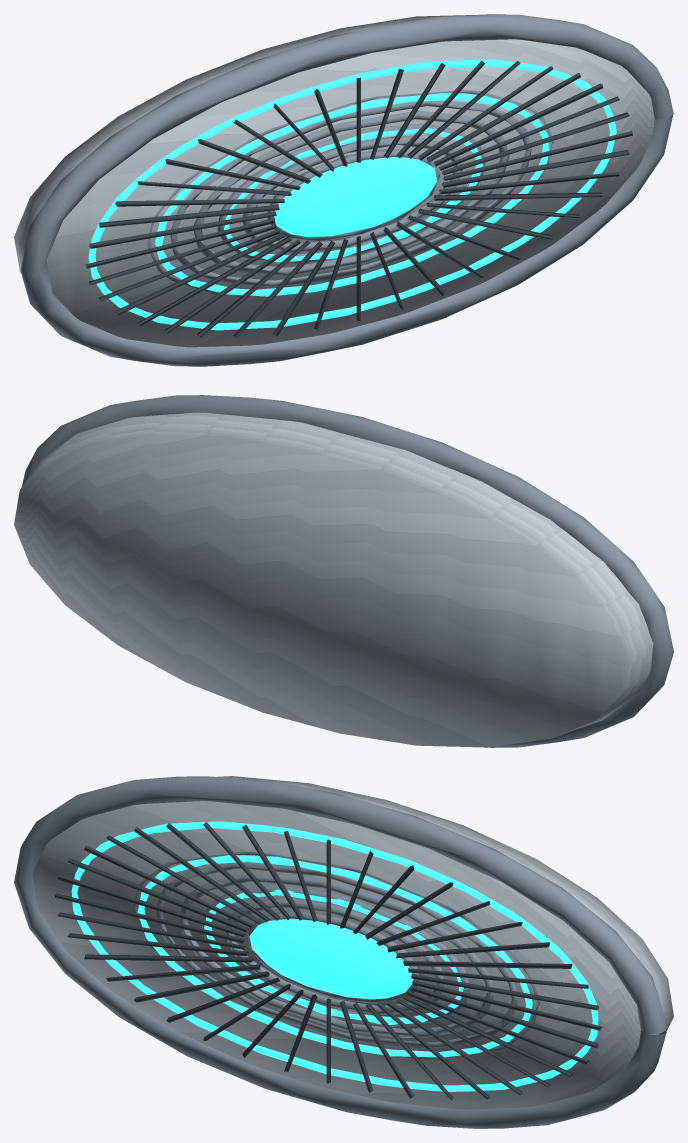
Rendered from Deflector_Blue_concentric_LOD0.fbx.
The picture shows the model from 3 angles, top to bottom: view 1: azimuth 30°, elevation 25°; view 2: azimuth 150°, elevation 25°; view 3: azimuth 330°, elevation 25°; orthographic projection.
Parts seen in each view (by area): view 1: Deflector_Blue_concentric_LOD0; view 2: Deflector_Blue_concentric_LOD0; view 3: Deflector_Blue_concentric_LOD0.
Part boxes in pixels (x1,y1,x2,y2): Deflector_Blue_concentric_LOD0: (14,14,673,366); Deflector_Blue_concentric_LOD0: (14,395,673,747); Deflector_Blue_concentric_LOD0: (14,776,673,1128).
Bounding box in the file's own units: 9419 × 4339 × 1053.
4 materials, 1 textured.
